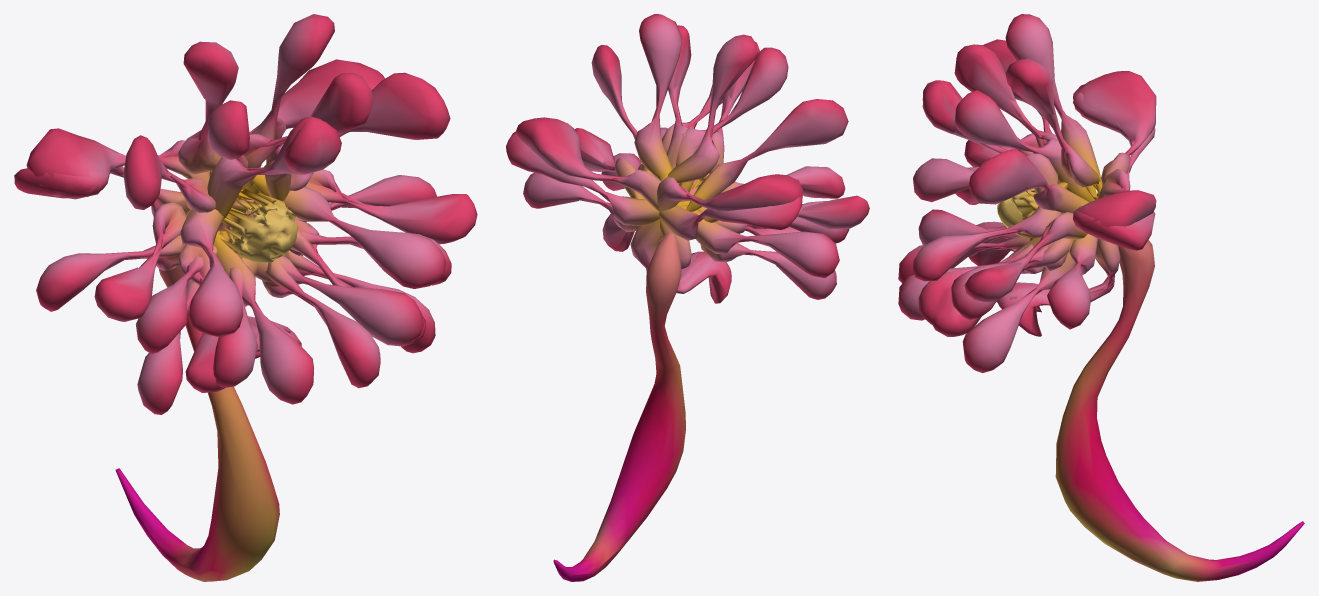
The model's file is mesh_lod_0_4f6a5346-9dbe-52c9-aa7c-2db4c4a6b72e.glb.
The picture shows the model from 3 angles, left to right: view 1: azimuth 30°, elevation 25°; view 2: azimuth 150°, elevation 25°; view 3: azimuth 270°, elevation 25°; orthographic projection. The views are drawn at different scales.
Parts seen in each view (by area): view 1: LOD 0_4f6a5346-9dbe-52c9-aa7c-2db4c4a6b72e; view 2: LOD 0_4f6a5346-9dbe-52c9-aa7c-2db4c4a6b72e; view 3: LOD 0_4f6a5346-9dbe-52c9-aa7c-2db4c4a6b72e.
Boxes of the visible parts, left/top/right/bottom form: LOD 0_4f6a5346-9dbe-52c9-aa7c-2db4c4a6b72e: left=14, top=14, right=477, bottom=581; LOD 0_4f6a5346-9dbe-52c9-aa7c-2db4c4a6b72e: left=506, top=14, right=869, bottom=581; LOD 0_4f6a5346-9dbe-52c9-aa7c-2db4c4a6b72e: left=898, top=14, right=1304, bottom=581.
Size of the model in its own units: 1.48 by 2.24 by 1.56.
